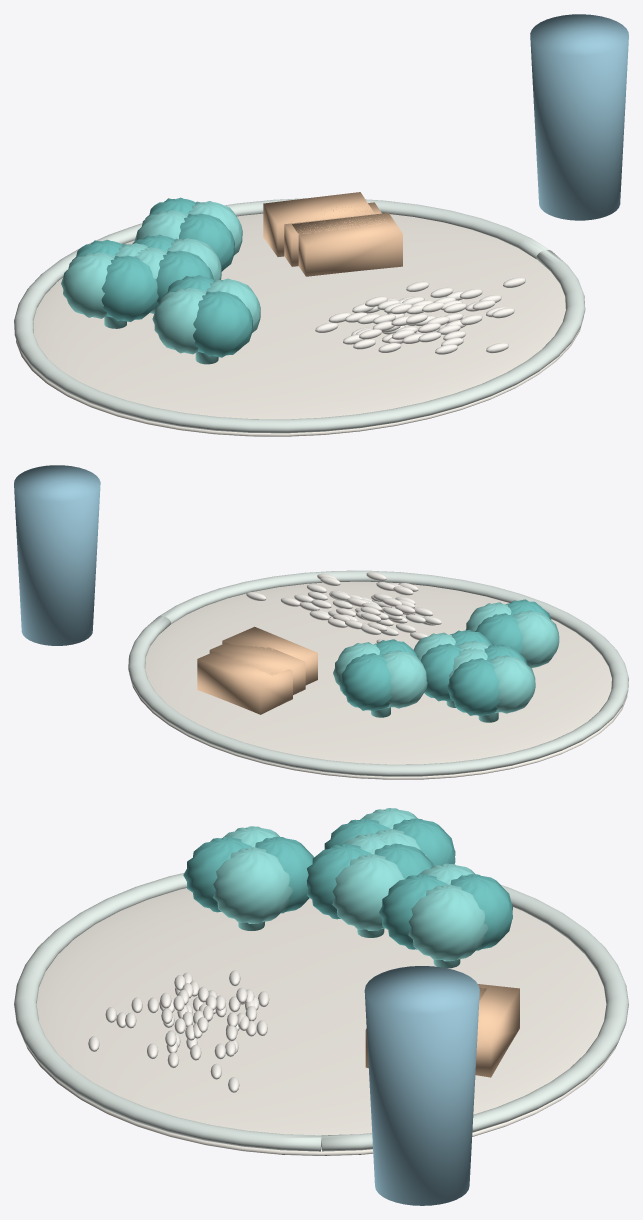
Rendered from nutrition-order.glb.
The picture shows the model from 3 angles, top to bottom: view 1: azimuth 30°, elevation 25°; view 2: azimuth 150°, elevation 25°; view 3: azimuth 270°, elevation 25°; orthographic projection. The views are drawn at different scales.
Visible parts, largest first — view 1: static #eee5d3, static #5596b7, static #c7ddd2, static #258985, static #49bdb4, static #f2a066, static #f8f1e4; view 2: static #eee5d3, static #c7ddd2, static #5596b7, static #258985, static #49bdb4, static #f2a066, static #f8f1e4; view 3: static #eee5d3, static #5596b7, static #c7ddd2, static #49bdb4, static #258985, static #f8f1e4, static #f2a066.
Boxes of the visible parts, x1,y1,x2,y2 form: static #eee5d3: (16, 213, 583, 436); static #5596b7: (530, 14, 628, 220); static #c7ddd2: (14, 198, 585, 433); static #258985: (72, 197, 252, 357); static #49bdb4: (61, 201, 260, 364); static #f2a066: (263, 192, 402, 276); static #f8f1e4: (315, 277, 525, 354); static #eee5d3: (129, 581, 627, 779); static #c7ddd2: (128, 570, 628, 776); static #5596b7: (14, 465, 100, 645); static #258985: (340, 599, 551, 716); static #49bdb4: (333, 602, 559, 722); static #f2a066: (197, 626, 317, 714); static #f8f1e4: (246, 572, 441, 643); static #eee5d3: (26, 888, 616, 1155); static #5596b7: (364, 966, 479, 1205); static #c7ddd2: (14, 873, 628, 1151); static #49bdb4: (213, 808, 488, 968); static #258985: (183, 818, 512, 950); static #f8f1e4: (88, 970, 269, 1092); static #f2a066: (365, 984, 519, 1077).
Bounding box in the file's own units: 0.4045 × 0.1185 × 0.299.
